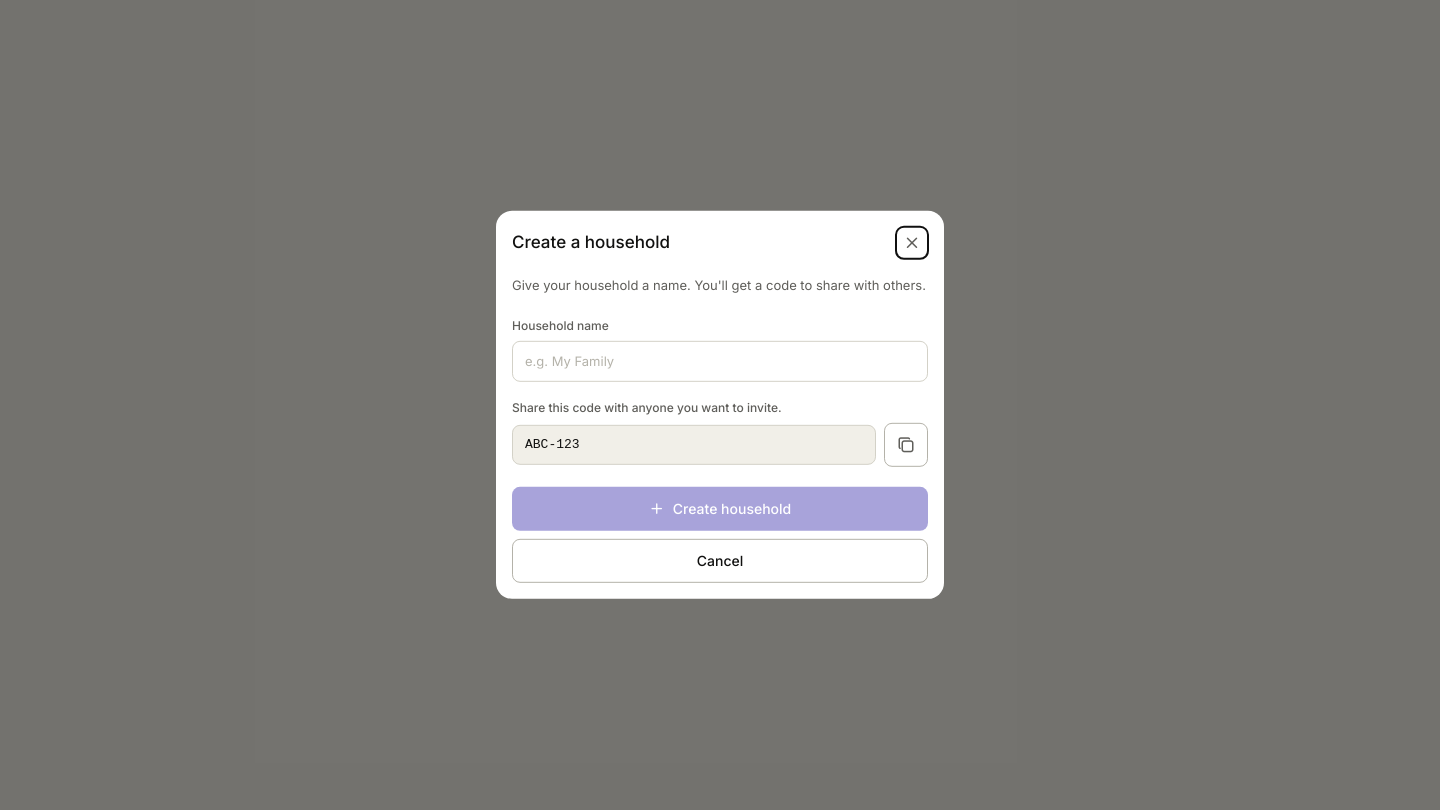
Scenario: CreateHouseholdSheet › enables create button when name is entered
Step 1. Type "My Family" into the field labelled "Household name" → [720, 361], box 512,341 -> 928,382
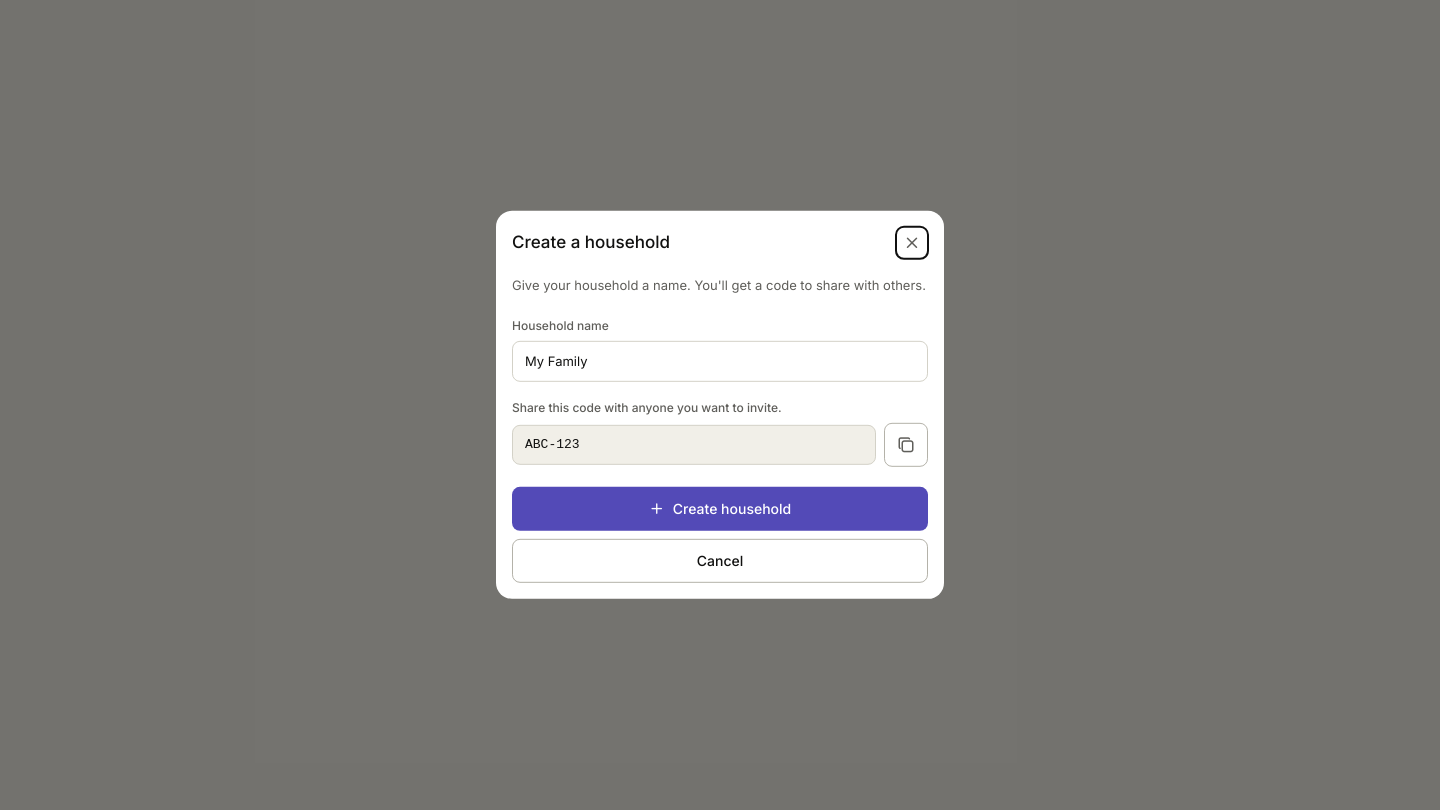
Now the button "Create household" is enabled, box 512,487 -> 928,531
